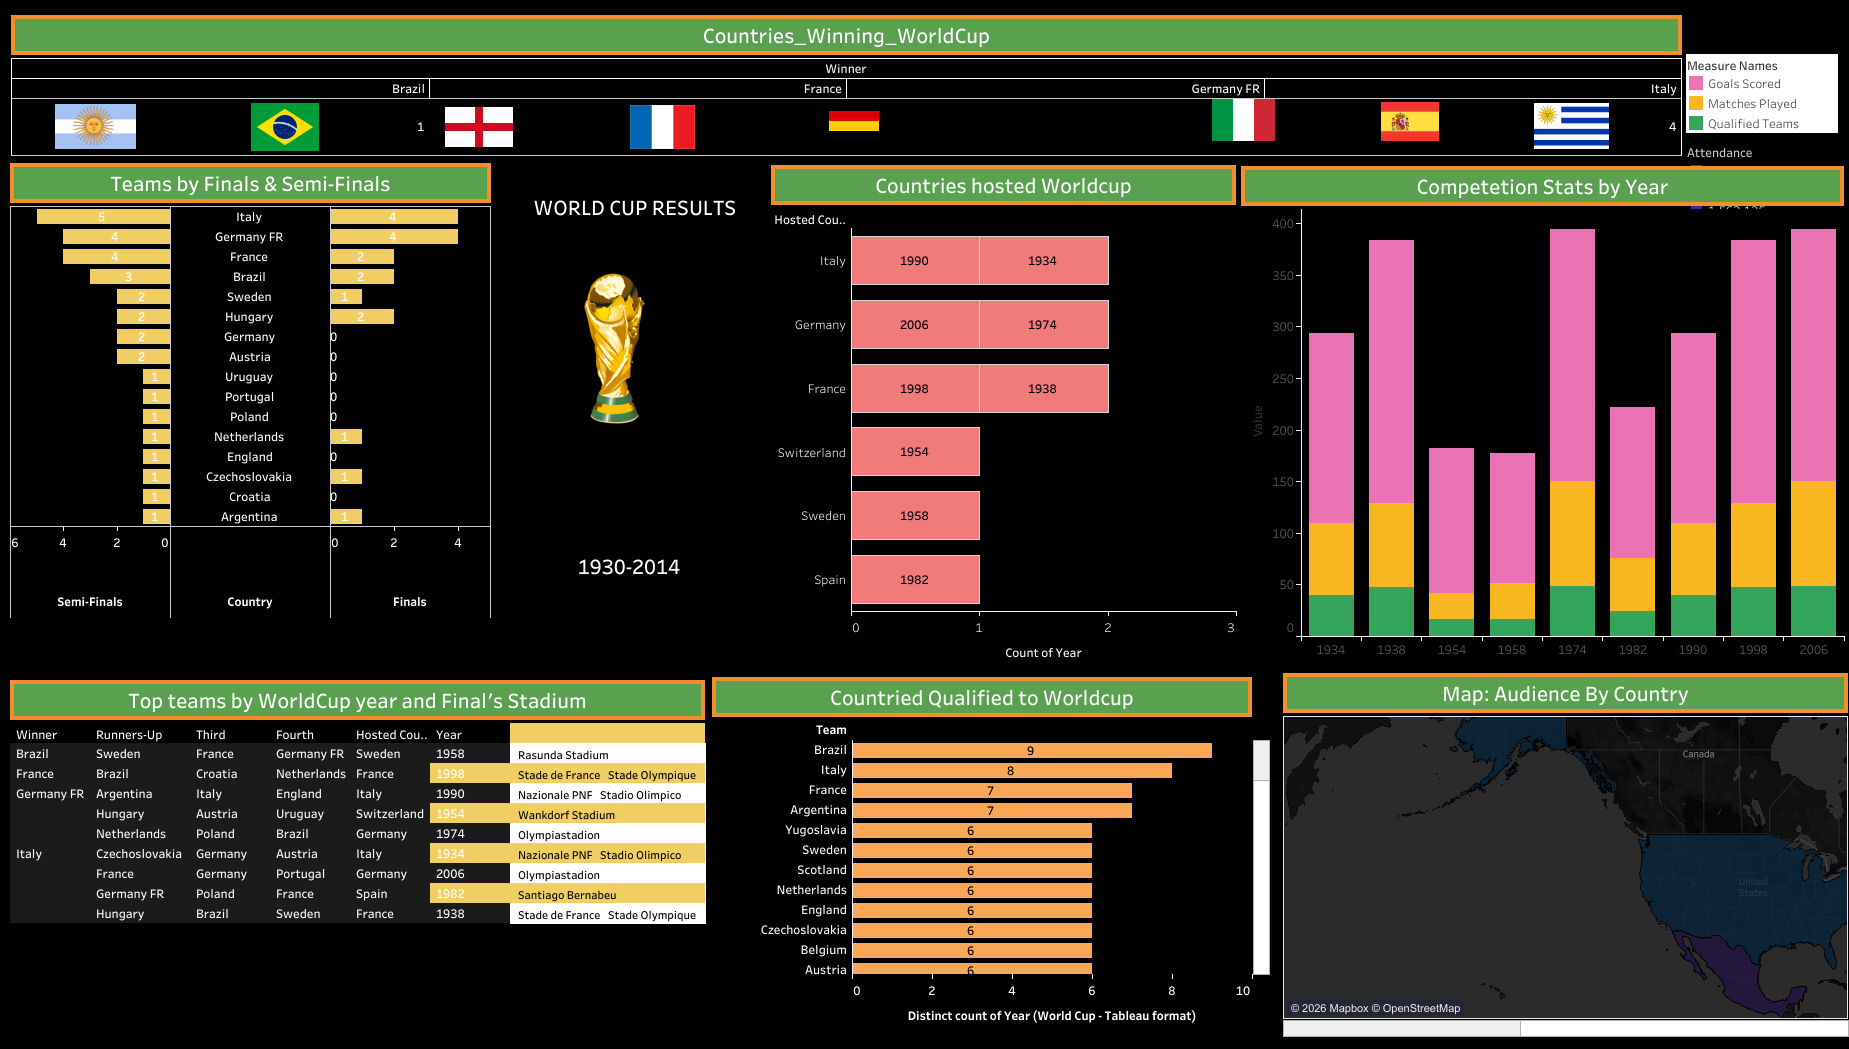

What the dashboard file says about the page in this screenshot:
{"tool":"tableau","page":{"name":"Dashboard 1","canvas":[1850,1050],"ordinal":0},"visuals":[{"type":"title","box":[8,8,1834,42]},{"type":"worksheet","title":"Countries_Winning_WorldCup","mark":"Automatic","cols":["Winner"],"box":[11,15,1671,141]},{"type":"image","box":[8,50,1674,992]},{"type":"legend","title":"Competetion Stats by Year","param":"[federated.0b5k9j61q566k019a3gwm0grzaks].[:Measure Names]","box":[1682,50,160,87]},{"type":"image","param":"Image/Argentina flag.jfif","box":[55,96,81,61]},{"type":"image","param":"Image/Germany flag.png","box":[829,97,50,38]},{"type":"image","param":"Image/Italy flag.png","box":[1182,99,124,42]},{"type":"image","param":"Image/England flag.png","box":[445,101,68,52]},{"type":"image","param":"Image/uruguay flag.png","box":[1534,101,75,51]},{"type":"image","param":"Image/Spain flag.jpg","box":[1216,102,388,39]},{"type":"image","param":"Image/Brazil flag.png","box":[242,103,87,48]},{"type":"image","param":"Image/France Flag.jpg","box":[618,105,89,44]},{"type":"legend","title":"Map: Audience By Country","param":"[federated.0b5k9j61q566k019a3gwm0grzaks].[none:Attendance:nk]","box":[1682,137,160,427]},{"type":"worksheet","title":"Teams by Finals & Semi-Finals","mark":"Automatic","rows":["Team"],"cols":["Calculation_0001041246715912","Calculation_0001041247690762","Calculation_0001041246416903"],"box":[10,163,481,506]},{"type":"worksheet","title":"Countries hosted Worldcup","mark":"Automatic","rows":["Country"],"cols":["Year"],"box":[771,165,465,503]},{"type":"worksheet","title":"Competetion Stats by Year","mark":"Bar","cols":["Year (WorldCupMatches)"],"box":[1241,166,603,492]},{"type":"image","param":"Image/worl cup pic 1.png","box":[499,167,253,501]},{"type":"text","box":[527,175,216,64]},{"type":"image","param":"Image/worl cup pic.png","box":[526.5,261.3,175.5,599.3]},{"type":"text","box":[539,533,180,65]},{"type":"worksheet","title":"Map: Audience By Country","mark":"Multipolygon","box":[1283,673,565,364]},{"type":"worksheet","title":"Countried Qualified to Worldcup","mark":"Automatic","rows":["Team"],"cols":["Year (World Cup - Tableau format)"],"box":[712,677,558,354]},{"type":"worksheet","title":"Top teams by WorldCup year and Final's Stadium","mark":"Automatic","rows":["Winner","Runners-Up","Third","Fourth","Country","Year"],"box":[10,680,695,350]}]}

Visuals, with their boxes in screenshot pixels (x1, y1, x2, y2), scaled from the page's 1850x1050 canvas onto the 1849x1049 screenshot:
title: (x1=8, y1=8, x2=1841, y2=50)
"Countries_Winning_WorldCup" worksheet: (x1=11, y1=15, x2=1681, y2=156)
image: (x1=8, y1=50, x2=1681, y2=1041)
"Competetion Stats by Year" legend: (x1=1681, y1=50, x2=1841, y2=137)
image: (x1=55, y1=96, x2=136, y2=157)
image: (x1=829, y1=97, x2=879, y2=135)
image: (x1=1181, y1=99, x2=1305, y2=141)
image: (x1=445, y1=101, x2=513, y2=153)
image: (x1=1533, y1=101, x2=1608, y2=152)
image: (x1=1215, y1=102, x2=1603, y2=141)
image: (x1=242, y1=103, x2=329, y2=151)
image: (x1=618, y1=105, x2=707, y2=149)
"Map: Audience By Country" legend: (x1=1681, y1=137, x2=1841, y2=563)
"Teams by Finals & Semi-Finals" worksheet: (x1=10, y1=163, x2=491, y2=668)
"Countries hosted Worldcup" worksheet: (x1=771, y1=165, x2=1235, y2=667)
"Competetion Stats by Year" worksheet (Bar marks): (x1=1240, y1=166, x2=1843, y2=657)
image: (x1=499, y1=167, x2=752, y2=667)
text: (x1=527, y1=175, x2=743, y2=239)
image: (x1=526, y1=261, x2=702, y2=860)
text: (x1=539, y1=532, x2=719, y2=597)
"Map: Audience By Country" worksheet (Multipolygon marks): (x1=1282, y1=672, x2=1847, y2=1036)
"Countried Qualified to Worldcup" worksheet: (x1=712, y1=676, x2=1269, y2=1030)
"Top teams by WorldCup year and Final's Stadium" worksheet: (x1=10, y1=679, x2=705, y2=1029)
